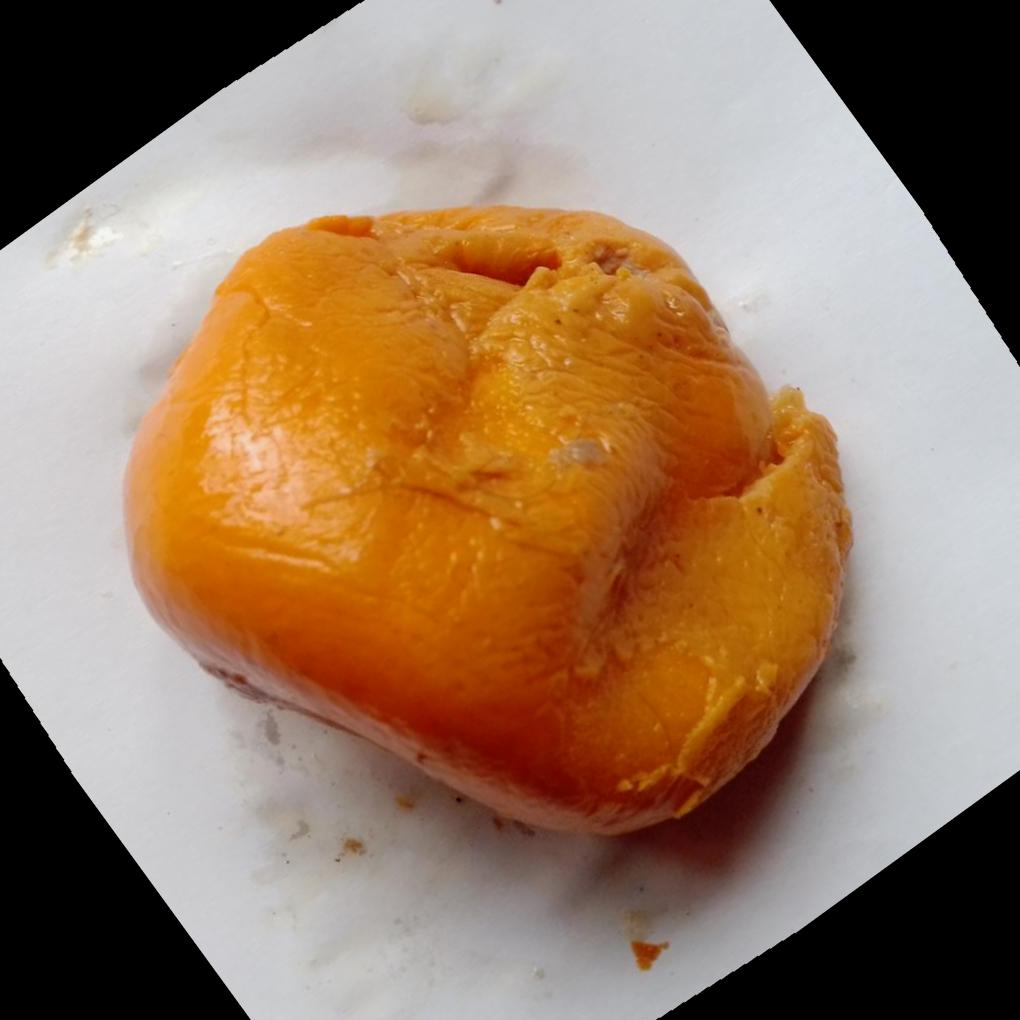FreshOrange: (118, 204, 853, 838)
